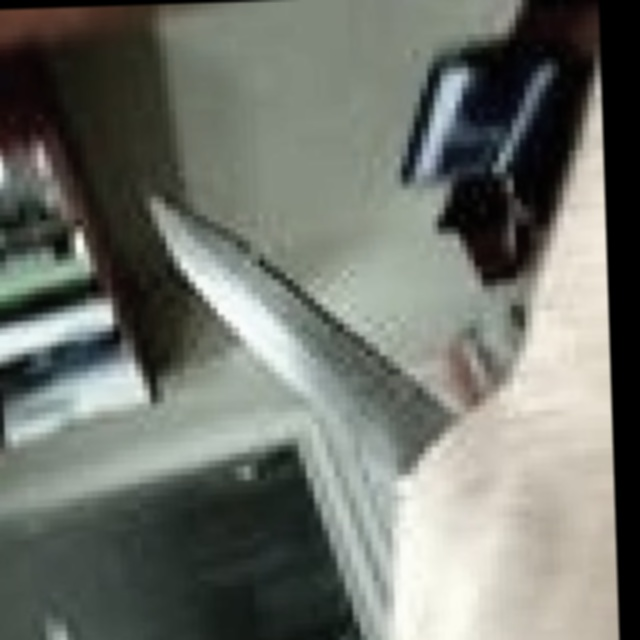Sharp-Object: (152, 192, 461, 484)
